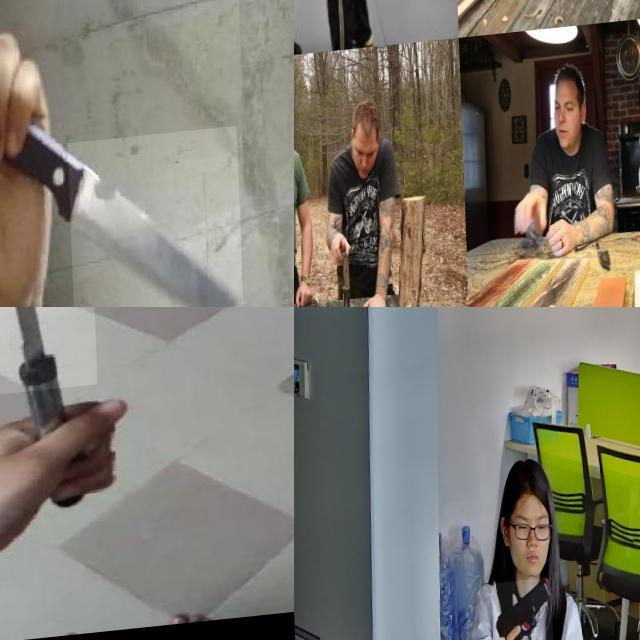-: (65, 135, 240, 307), (0, 307, 94, 459), (325, 242, 351, 307), (612, 0, 640, 32), (294, 0, 313, 19)
gun-knife-thesis - v11 Yolov5 augmented: (486, 583, 549, 640)
